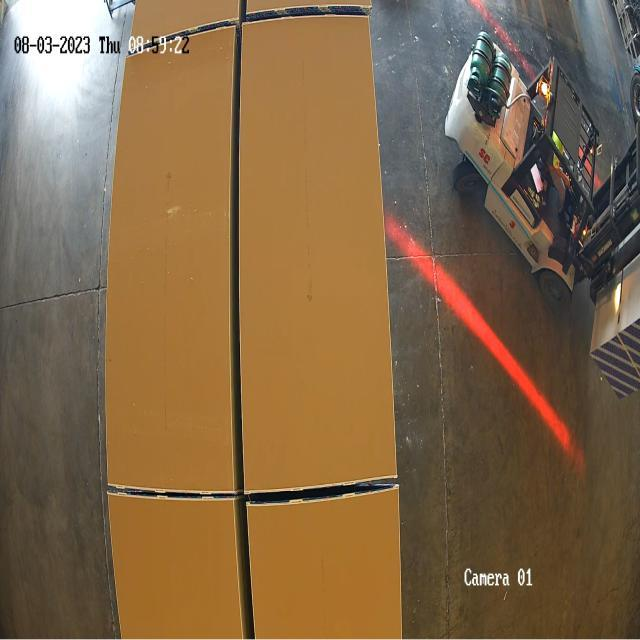driver: (548, 125, 568, 210)
forklift: (442, 21, 640, 310)
